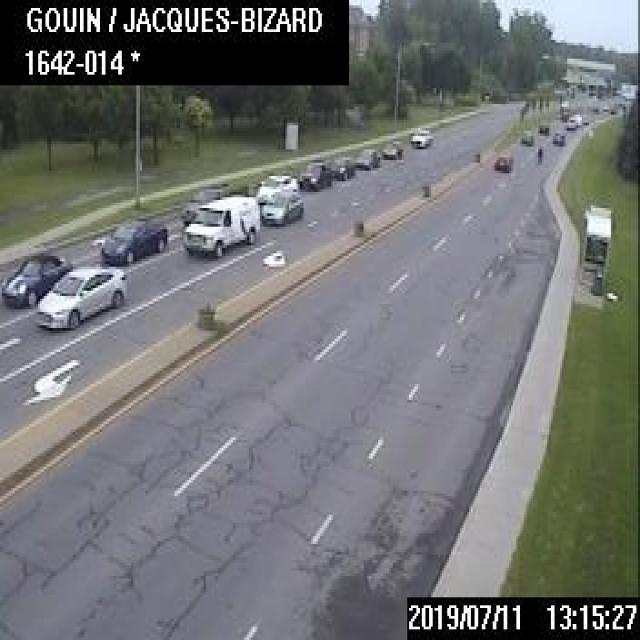pedestrian: (536, 143, 542, 161)
vehicle: (36, 265, 125, 328), (180, 194, 258, 253), (0, 252, 71, 305), (100, 218, 166, 261), (180, 186, 227, 222), (259, 189, 303, 222), (255, 173, 296, 202), (297, 160, 330, 189), (329, 156, 353, 179), (353, 147, 379, 167), (409, 128, 430, 146), (381, 142, 402, 156), (492, 154, 510, 169), (520, 130, 532, 143), (552, 130, 562, 144), (536, 120, 546, 133), (564, 115, 574, 127)
